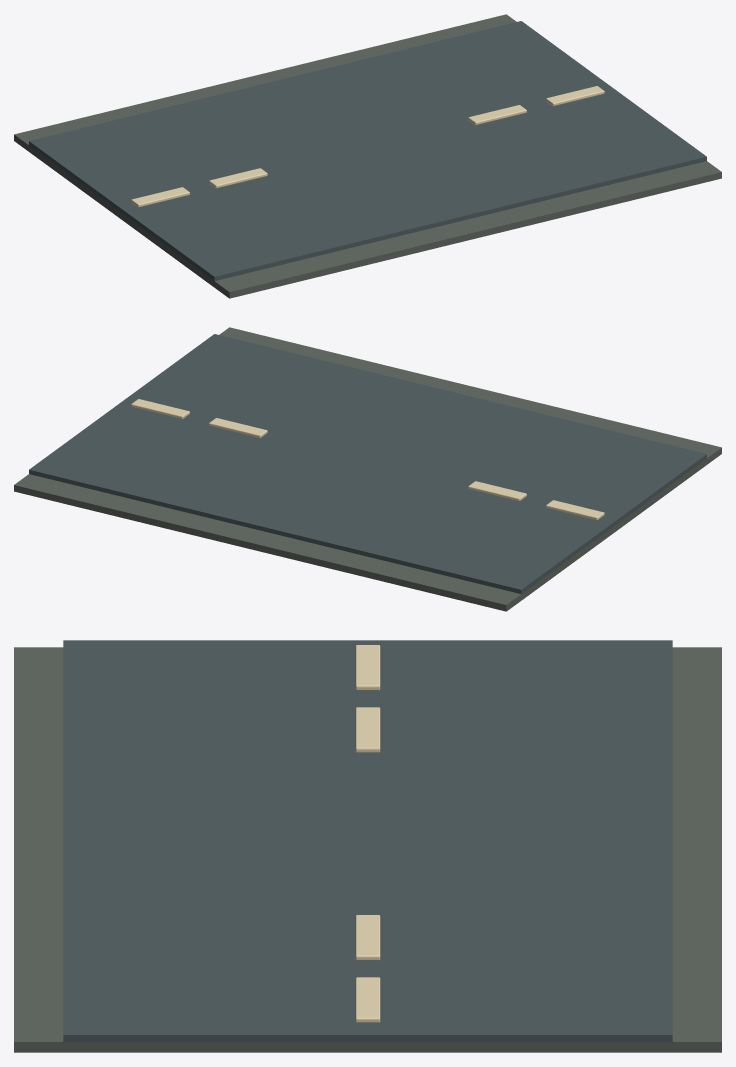
The model's file is road_straight.glb.
3 views of the same model, one above another, from view 1: azimuth 30°, elevation 25°; view 2: azimuth 150°, elevation 25°; view 3: azimuth 270°, elevation 25° (orthographic). The views are drawn at different scales.
Visible parts, largest first — view 1: road_straight · asphalt, road_straight · stone_dark, road_straight · road_line; view 2: road_straight · asphalt, road_straight · stone_dark, road_straight · road_line; view 3: road_straight · asphalt, road_straight · stone_dark, road_straight · road_line.
Part boxes in pixels (x1,y1,x2,y2): road_straight · asphalt: (29,21,706,281); road_straight · stone_dark: (14,14,721,298); road_straight · road_line: (131,86,604,207); road_straight · asphalt: (29,334,706,594); road_straight · stone_dark: (14,327,721,611); road_straight · road_line: (131,399,604,520); road_straight · asphalt: (63,640,672,1041); road_straight · stone_dark: (14,647,721,1052); road_straight · road_line: (355,645,380,1022).
Bounding box in the file's own units: 0.95 × 0.027 × 0.72.
